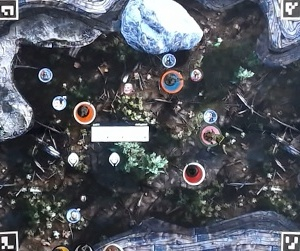light_blue_orange: (161, 70, 184, 93)
orange: (72, 101, 95, 124)
pink_green: (200, 126, 223, 149)
red: (185, 162, 208, 185)
